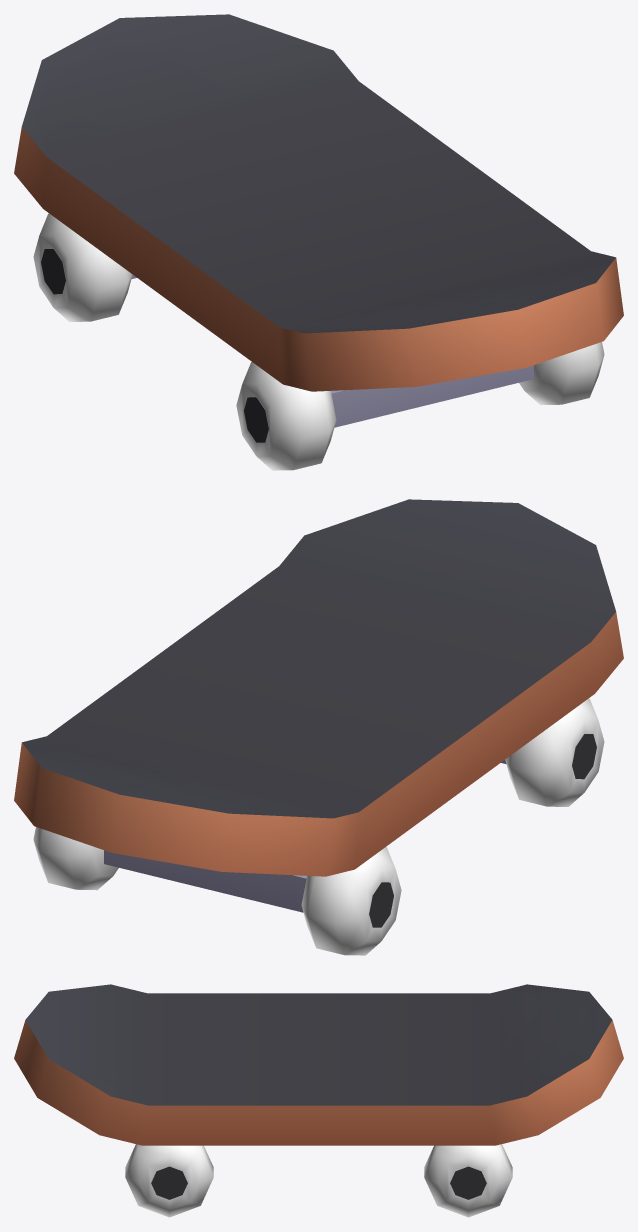
The model's file is skateboard.fbx.
3 renders of one model, top to bottom at view 1: azimuth 30°, elevation 25°; view 2: azimuth 150°, elevation 25°; view 3: azimuth 270°, elevation 25°, orthographic. The views are drawn at different scales.
Visible parts, largest first — view 1: skateboard; view 2: skateboard; view 3: skateboard.
Boxes of the visible parts, x1,y1,x2,y2 form: skateboard: (14,14,623,470); skateboard: (14,499,623,955); skateboard: (14,984,623,1217).
Bounding box in the file's own units: 31.56 × 18.05 × 68.98.
Materials: 1 (1 with a texture image).
